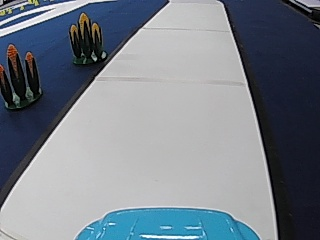corn: (0, 42, 43, 109), (67, 9, 106, 65)
